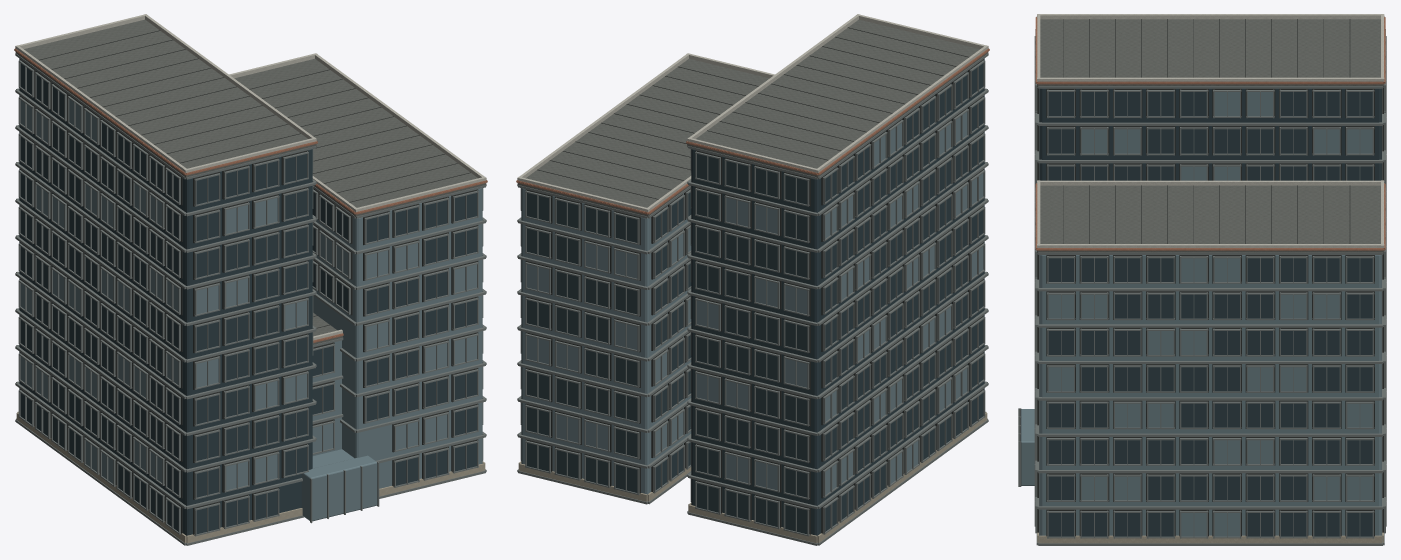
File: OFF_MID_3x3_003.glb
3 views of the same model, side by side, from view 1: azimuth 30°, elevation 25°; view 2: azimuth 150°, elevation 25°; view 3: azimuth 270°, elevation 25° (orthographic).
Visible parts, largest first — view 1: OFF_MID_3x3_003_Visual; view 2: OFF_MID_3x3_003_Visual; view 3: OFF_MID_3x3_003_Visual.
Boxes of the visible parts, left/top/right/bottom form: OFF_MID_3x3_003_Visual: left=14, top=14, right=487, bottom=545; OFF_MID_3x3_003_Visual: left=516, top=14, right=989, bottom=545; OFF_MID_3x3_003_Visual: left=1018, top=14, right=1386, bottom=545.
Size of what is drawn, in the model's own units: 5.22 by 6.15 by 5.37.
Materials: 8 (4 with a texture image).
